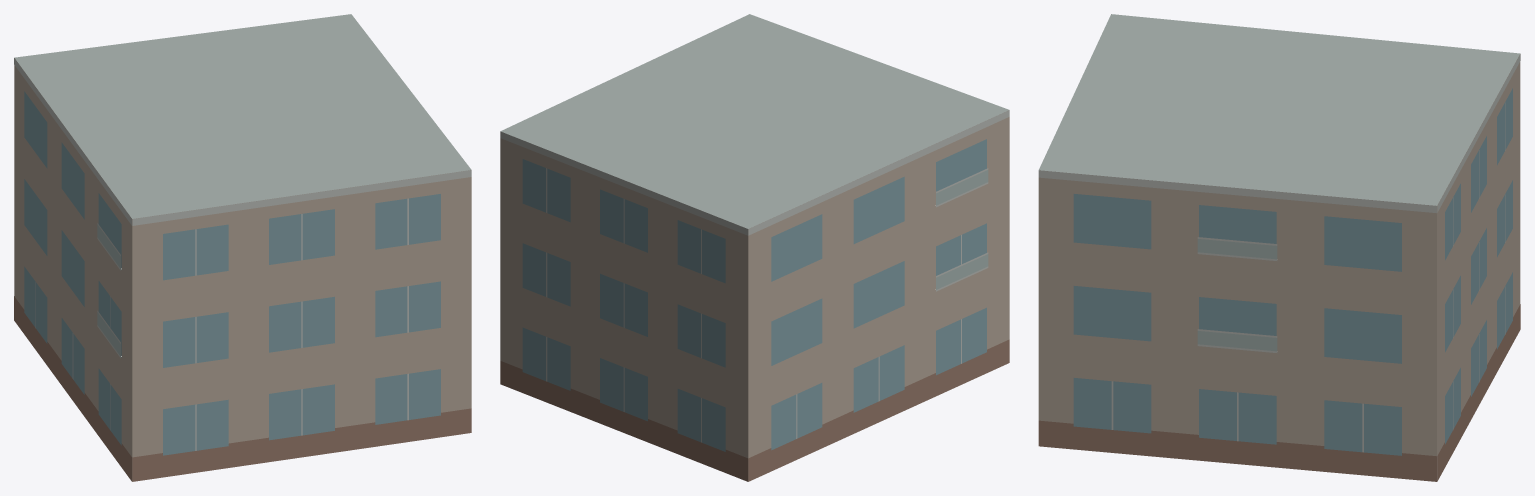
The model's file is survey-upis-32843320.glb.
3 renders of one model, left to right at view 1: azimuth 30°, elevation 25°; view 2: azimuth 150°, elevation 25°; view 3: azimuth 270°, elevation 25°, orthographic. The views are drawn at different scales.
Visible parts, largest first — view 1: survey-upis-32843320.tmp; view 2: survey-upis-32843320.tmp; view 3: survey-upis-32843320.tmp.
Part boxes in pixels (x1,y1,x2,y2): survey-upis-32843320.tmp: [14, 14, 471, 481]; survey-upis-32843320.tmp: [500, 14, 1009, 481]; survey-upis-32843320.tmp: [1038, 14, 1520, 481].
Bounding box in the file's own units: 13.65 × 9.15 × 14.49.
